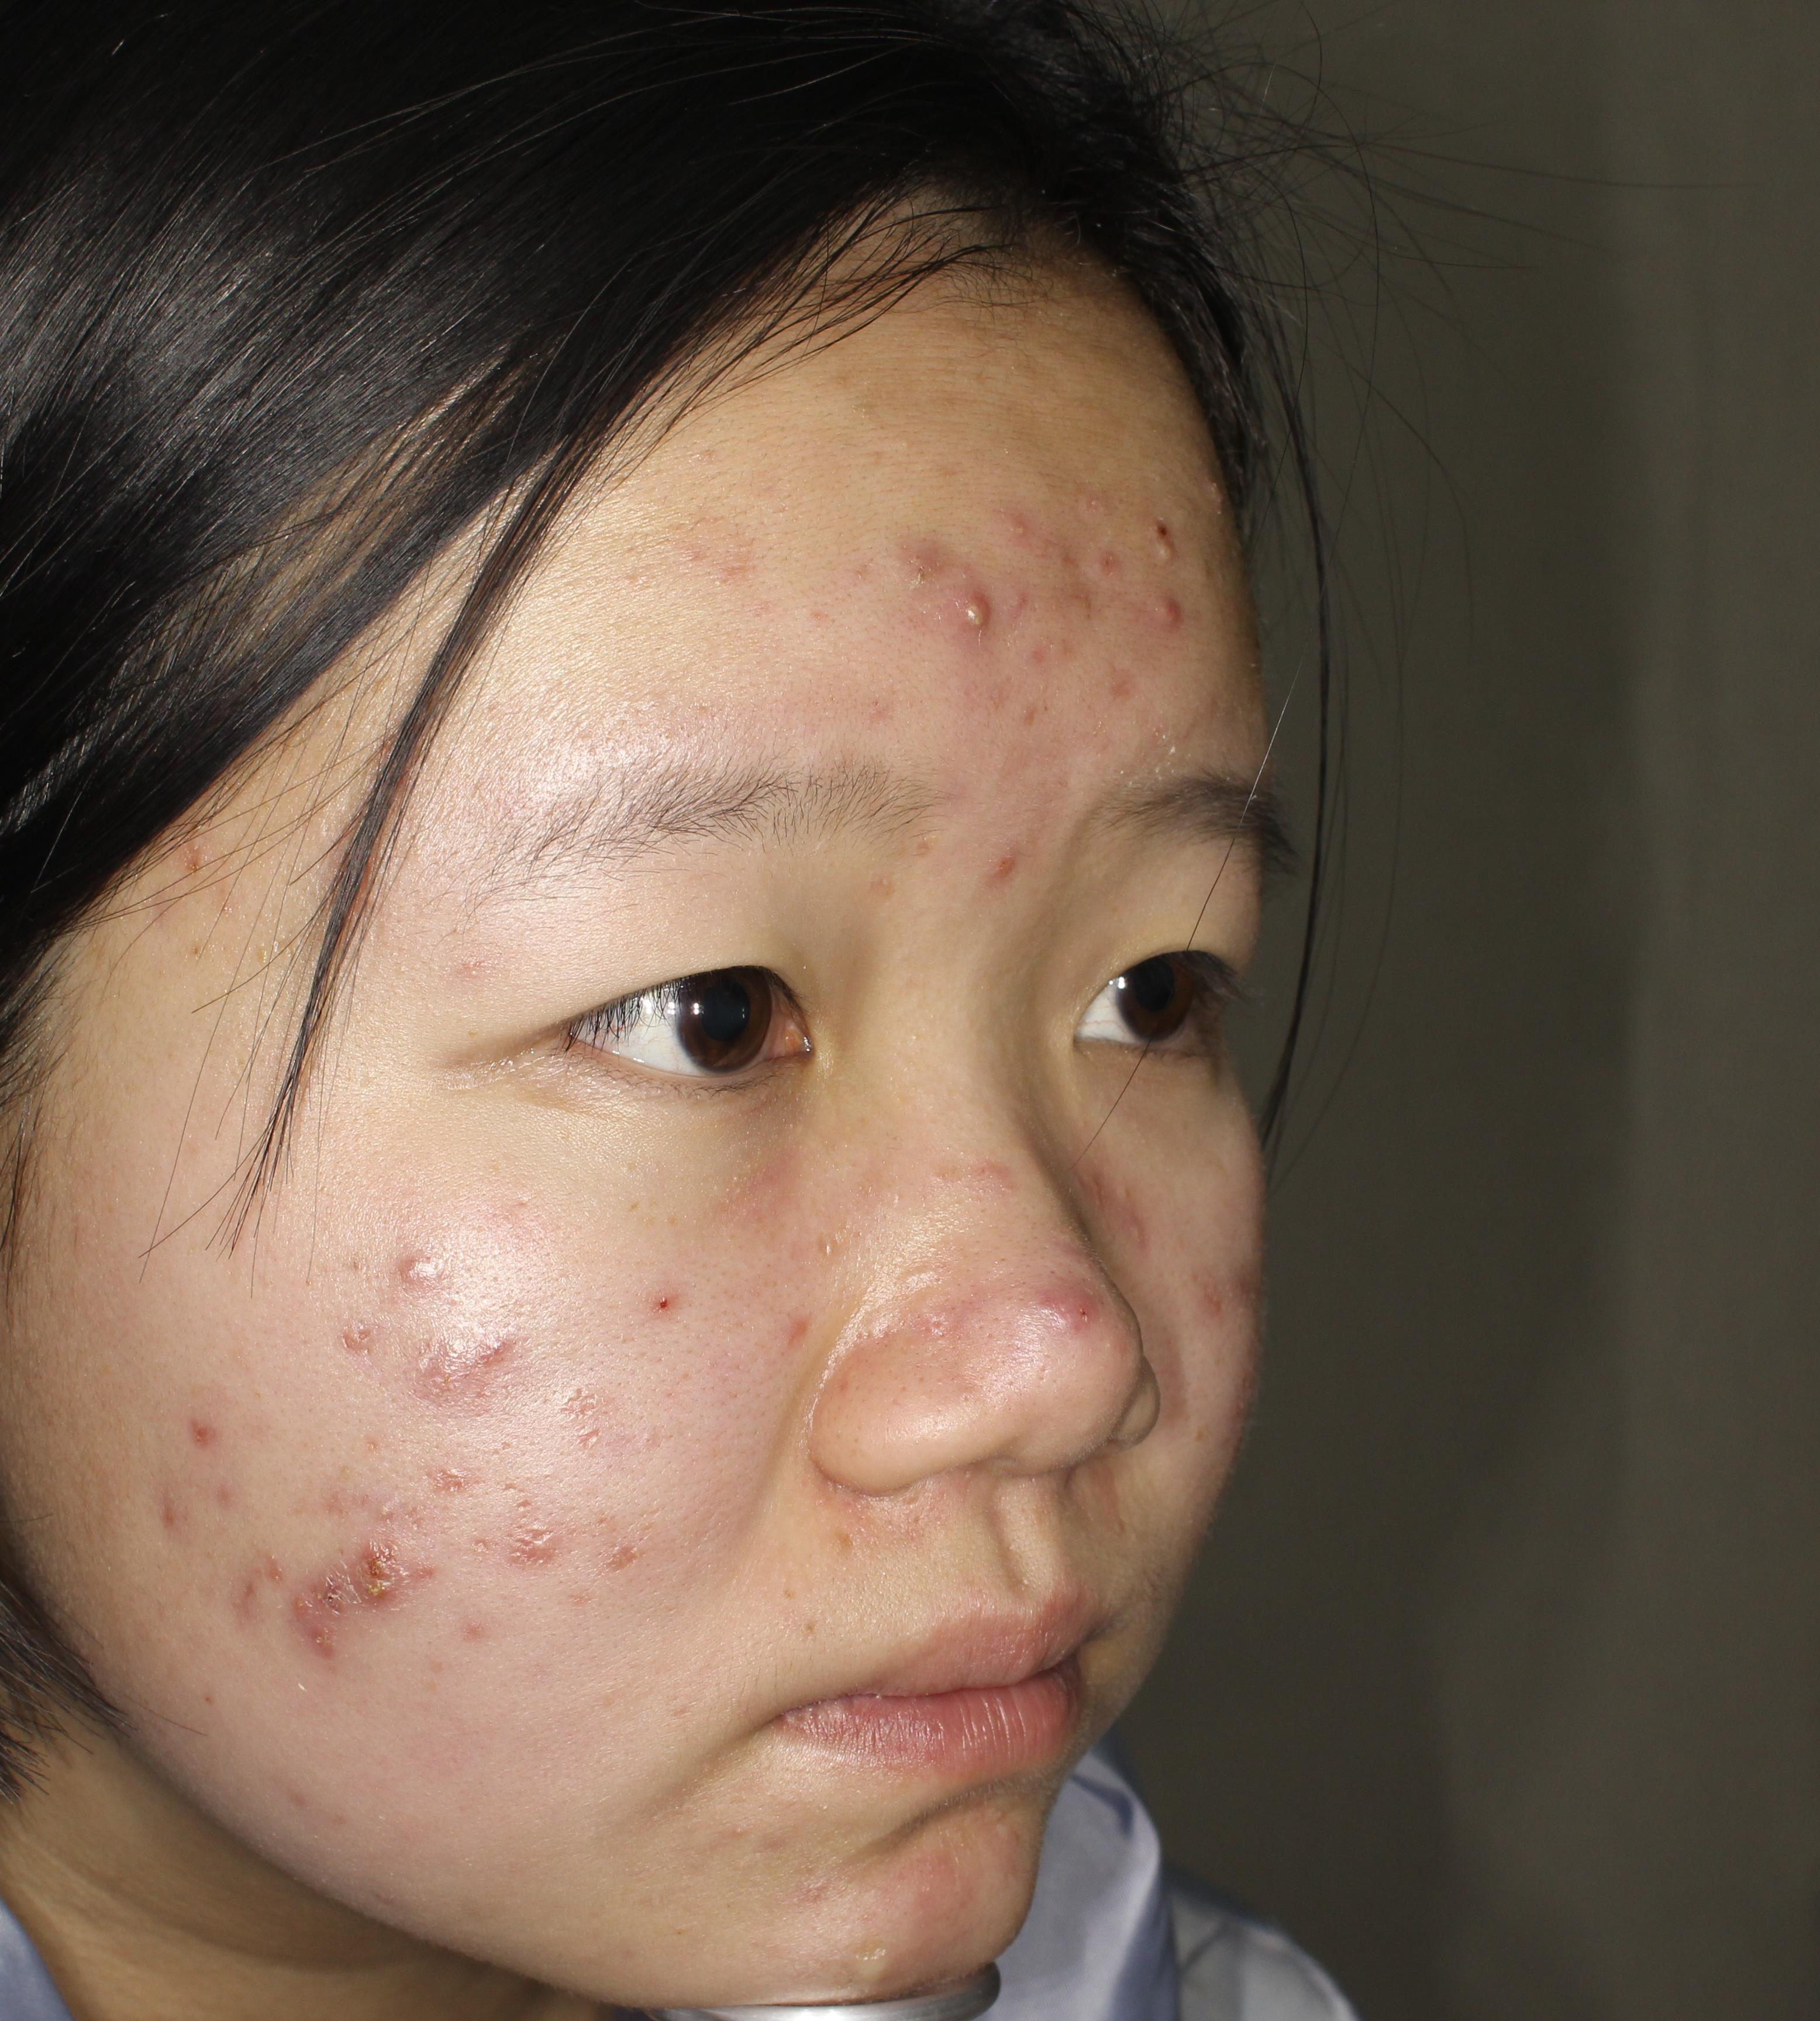fore: (279, 1568, 386, 1687), (740, 1285, 861, 1378), (494, 1508, 606, 1594), (942, 1124, 1031, 1217), (346, 1522, 413, 1626), (1028, 1257, 1109, 1338), (938, 567, 1005, 653), (964, 824, 1045, 890), (409, 1326, 467, 1410), (1135, 576, 1202, 648), (467, 1303, 525, 1384), (915, 1266, 961, 1361), (207, 1557, 279, 1612), (1051, 558, 1109, 625), (144, 1468, 199, 1536), (204, 1468, 271, 1522), (163, 1406, 221, 1459), (329, 1294, 369, 1370), (413, 1450, 476, 1496), (840, 1935, 898, 1984), (910, 509, 961, 555), (378, 1236, 430, 1277), (1014, 478, 1045, 541), (1042, 536, 1077, 567), (525, 1352, 534, 1370)
